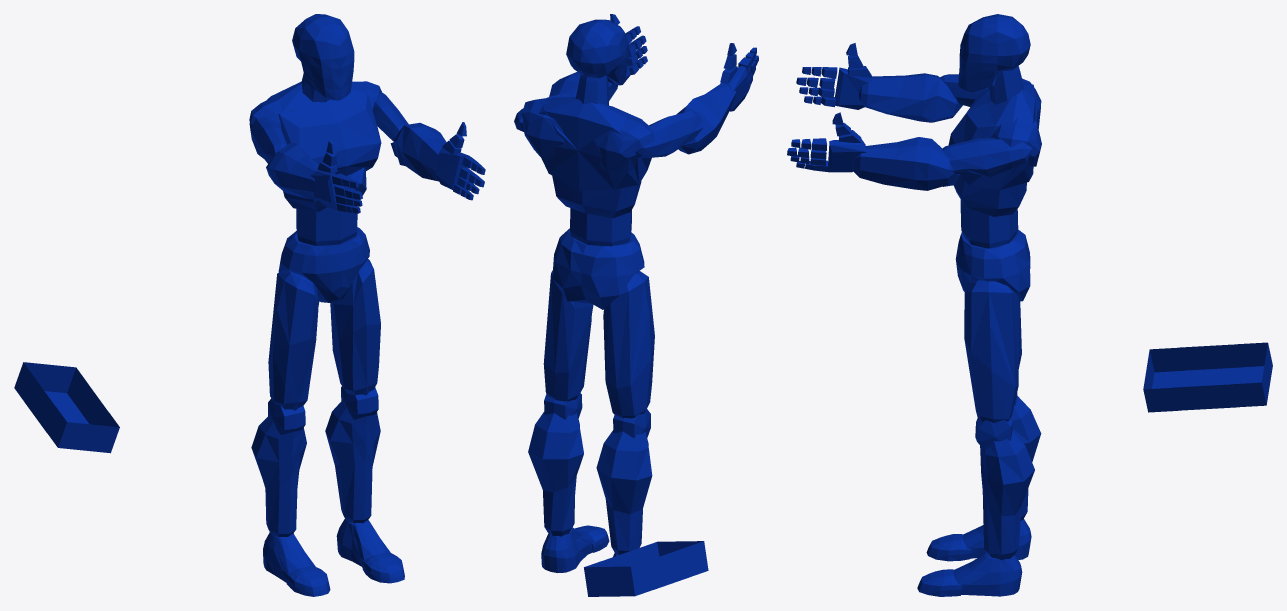
The model's file is robot.obj.
3 renders of one model, left to right at view 1: azimuth 30°, elevation 25°; view 2: azimuth 150°, elevation 25°; view 3: azimuth 270°, elevation 25°, orthographic.
Parts seen in each view (by area): view 1: Mesh_Fing_2c_L1, Mesh_Chest_Hero1, Mesh_RuLeg_Hero1, Mesh_LuLeg_Hero1, Mesh_LlLeg_Hero1, Mesh_RlLeg_Hero1, Mesh_Head_Hero1, Mesh_Hips_Hero1, Mesh_LlArm_Hero1, Mesh_Waist_Hero1, Mesh_Fing_3b_R1, Mesh_RlArm_Hero1 (+9 smaller); view 2: Mesh_Chest_Hero1, Mesh_RuLeg_Hero1, Mesh_Fing_2c_L1, Mesh_RlLeg_Hero1, Mesh_Hips_Hero1, Mesh_LlLeg_Hero1, Mesh_LuLeg_Hero1, Mesh_Head_Hero1, Mesh_Ribs_Hero1, Mesh_RlArm_Hero1, Mesh_RuArm_Hero1, Mesh_Waist_Hero1 (+9 smaller); view 3: Mesh_Fing_2c_L1, Mesh_LuLeg_Hero1, Mesh_LlLeg_Hero1, Mesh_Head_Hero1, Mesh_LlArm_Hero1, Mesh_Chest_Hero1, Mesh_RlArm_Hero1, Mesh_Hips_Hero1, Mesh_Fing_3b_R1, Mesh_LuArm_Hero1, Mesh_Lfoot_Hero1, Mesh_Waist_Hero1 (+8 smaller).
Boxes of the visible parts, x1,y1,x2,y2 form: Mesh_Fing_2c_L1: (14,122,485,453); Mesh_Chest_Hero1: (267,81,381,175); Mesh_RuLeg_Hero1: (268,269,319,410); Mesh_LuLeg_Hero1: (330,259,380,395); Mesh_LlLeg_Hero1: (325,400,380,523); Mesh_RlLeg_Hero1: (251,416,306,537); Mesh_Head_Hero1: (292,14,354,100); Mesh_Hips_Hero1: (278,227,369,303); Mesh_LlArm_Hero1: (393,122,446,181); Mesh_Waist_Hero1: (296,206,357,245); Mesh_Fing_3b_R1: (310,140,362,213); Mesh_RlArm_Hero1: (266,142,318,199); Mesh_Chest_Hero1: (538,97,651,191); Mesh_RuLeg_Hero1: (603,271,654,418); Mesh_Fing_2c_L1: (584,14,708,596); Mesh_RlLeg_Hero1: (596,430,652,555); Mesh_Hips_Hero1: (552,228,644,309); Mesh_LlLeg_Hero1: (528,412,583,536); Mesh_LuLeg_Hero1: (543,270,593,401); Mesh_Head_Hero1: (566,19,629,85); Mesh_Ribs_Hero1: (552,176,641,218); Mesh_RlArm_Hero1: (676,84,736,154); Mesh_RuArm_Hero1: (635,111,703,157); Mesh_Waist_Hero1: (570,208,631,246); Mesh_Fing_2c_L1: (787,112,1272,412); Mesh_LuLeg_Hero1: (964,280,1018,422); Mesh_LlLeg_Hero1: (980,431,1034,560); Mesh_Head_Hero1: (958,14,1030,92); Mesh_LlArm_Hero1: (853,137,954,190); Mesh_Chest_Hero1: (948,81,1037,190); Mesh_RlArm_Hero1: (858,73,962,122); Mesh_Hips_Hero1: (955,229,1030,301); Mesh_Fing_3b_R1: (796,43,872,109); Mesh_LuArm_Hero1: (942,138,1032,176); Mesh_Lfoot_Hero1: (953,552,1022,596); Mesh_Waist_Hero1: (960,200,1018,248).
Size of the model in its own units: 0.9759 by 1.91 by 1.52.
